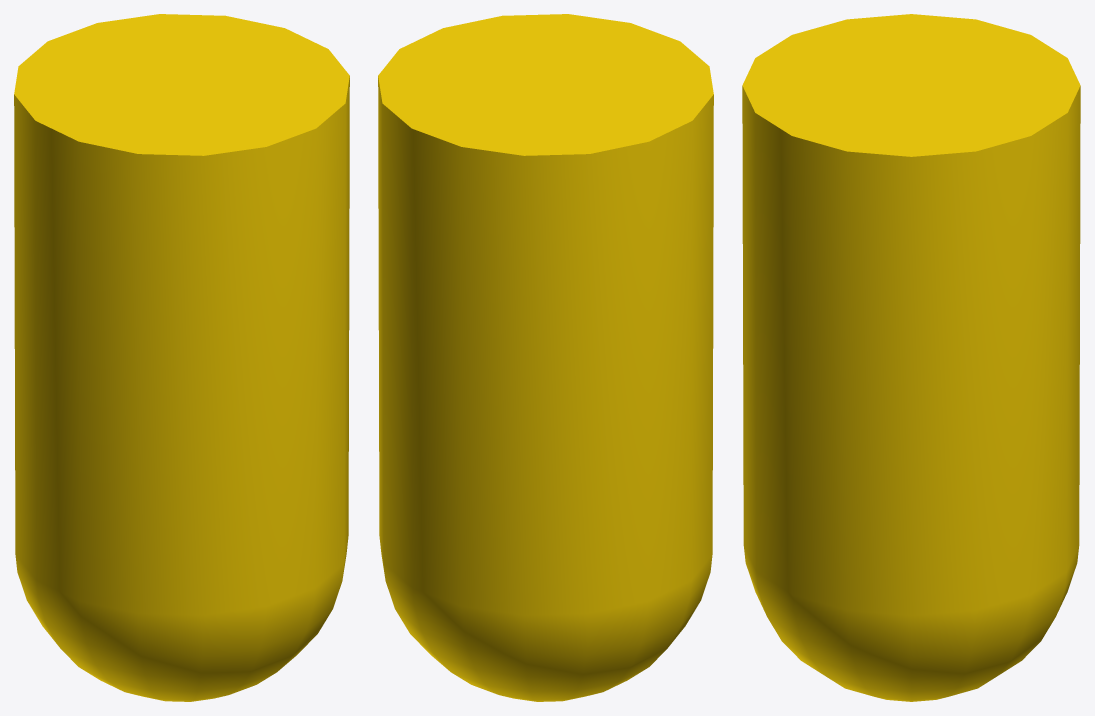
Rendered from DecorMachine_Syrup.FBX.
3 views of the same model, side by side, from view 1: azimuth 30°, elevation 25°; view 2: azimuth 150°, elevation 25°; view 3: azimuth 270°, elevation 25° (orthographic).
Parts seen in each view (by area): view 1: DecorMachine_Buttons_Syrup; view 2: DecorMachine_Buttons_Syrup; view 3: DecorMachine_Buttons_Syrup.
Part boxes in pixels (box(x1,y1,x2,y2)): DecorMachine_Buttons_Syrup: box(14, 14, 349, 701); DecorMachine_Buttons_Syrup: box(378, 14, 713, 701); DecorMachine_Buttons_Syrup: box(742, 14, 1080, 701).
Bounding box in the file's own units: 2824 × 5536 × 2824.
